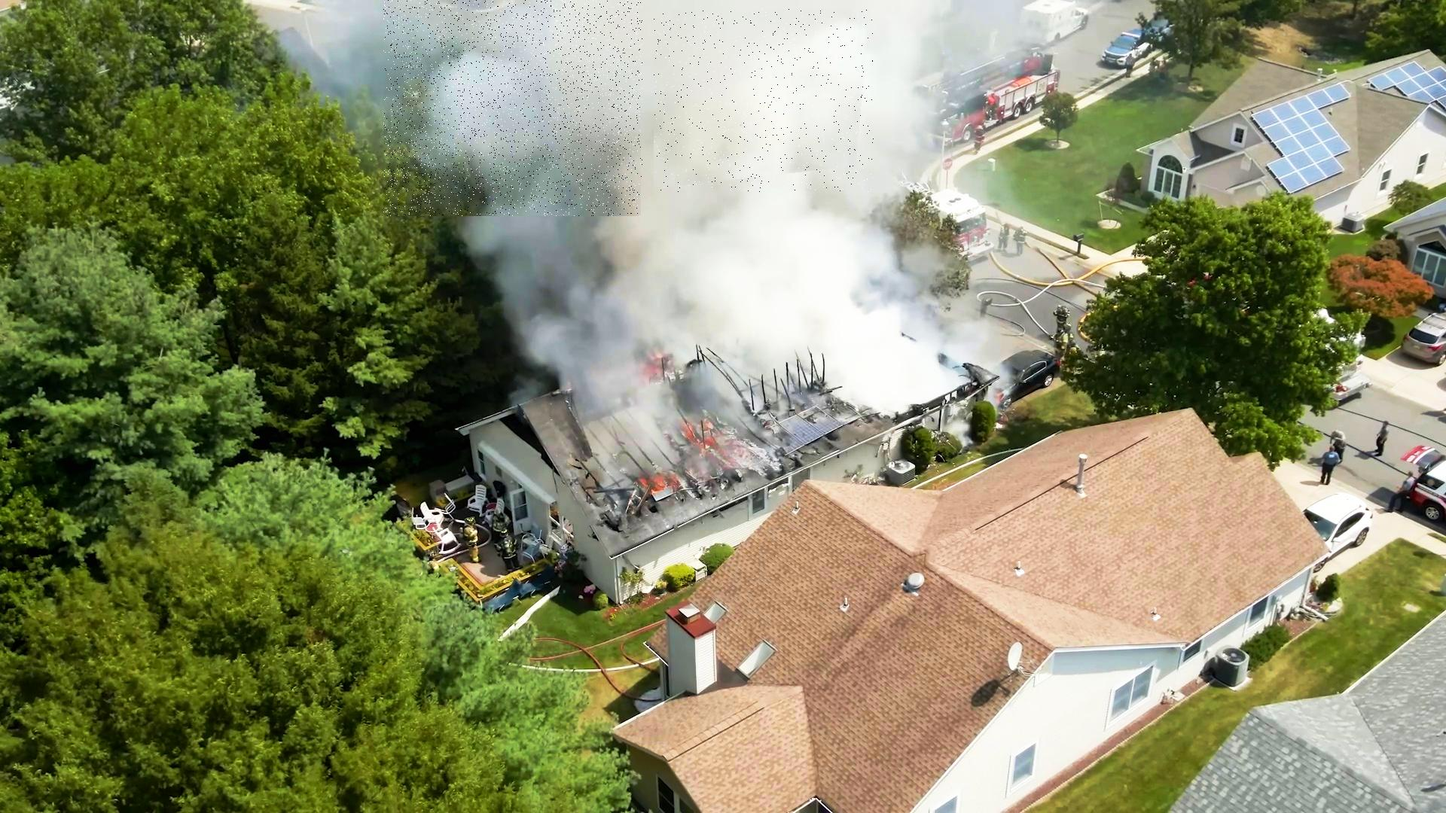smoke: (384, 0, 643, 216), (654, 10, 874, 192)
